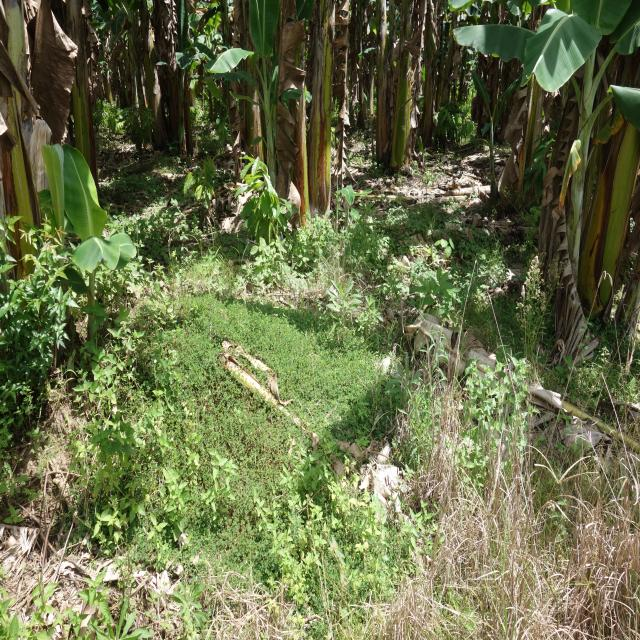Banana-plant: (582, 11, 640, 339), (0, 0, 56, 296), (266, 5, 310, 230), (302, 1, 335, 215), (390, 1, 420, 182), (372, 1, 392, 174)
